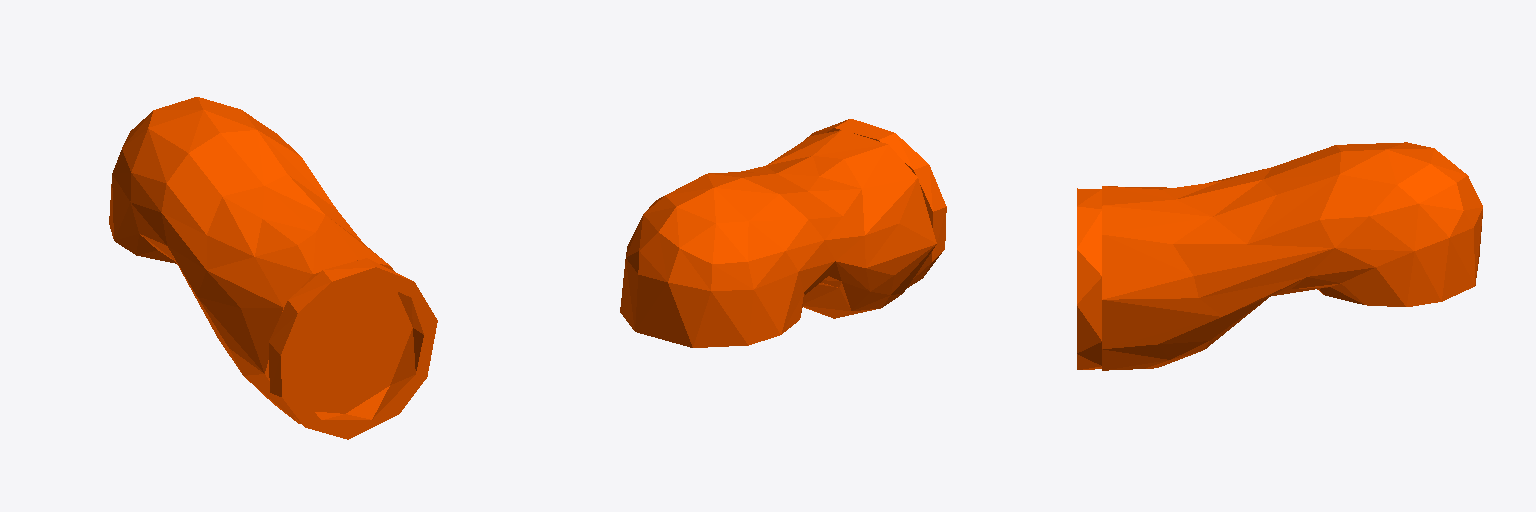
3 renders of one model, left to right at view 1: azimuth 30°, elevation 25°; view 2: azimuth 150°, elevation 25°; view 3: azimuth 270°, elevation 25°, orthographic.
Parts seen in each view (by area): view 1: link2_object.003; view 2: link2_object.003; view 3: link2_object.003.
Part boxes in pixels (bbox=[...]): link2_object.003: bbox=[109, 97, 437, 439]; link2_object.003: bbox=[620, 119, 946, 347]; link2_object.003: bbox=[1077, 142, 1482, 370].
Size of the model in its own units: 0.1225 by 0.1561 by 0.2691.